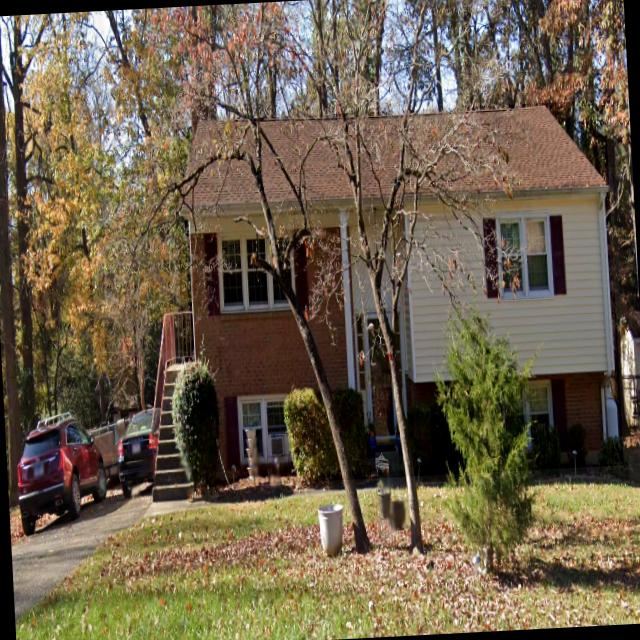House: (172, 100, 624, 488)
